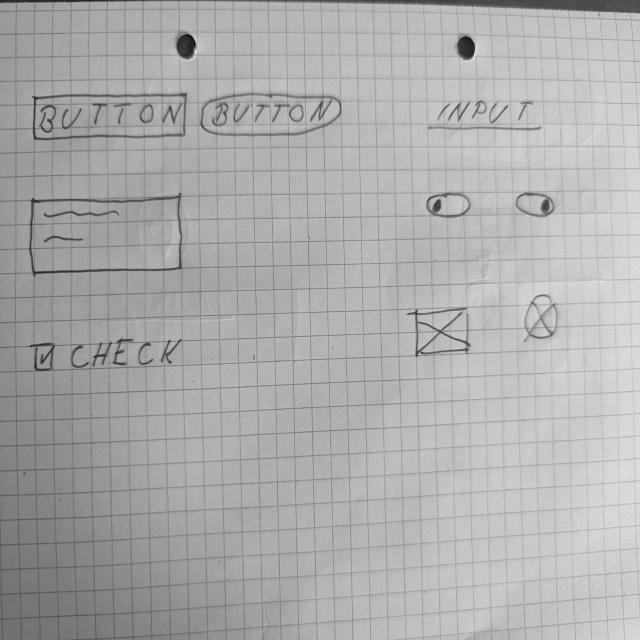button: (31, 91, 191, 145), (202, 93, 344, 141)
checkbox: (33, 338, 185, 376)
image: (416, 306, 473, 363), (523, 293, 562, 343)
input: (425, 98, 546, 134)
textarea: (28, 192, 187, 281)
toggle: (425, 191, 473, 221), (514, 191, 557, 221)
